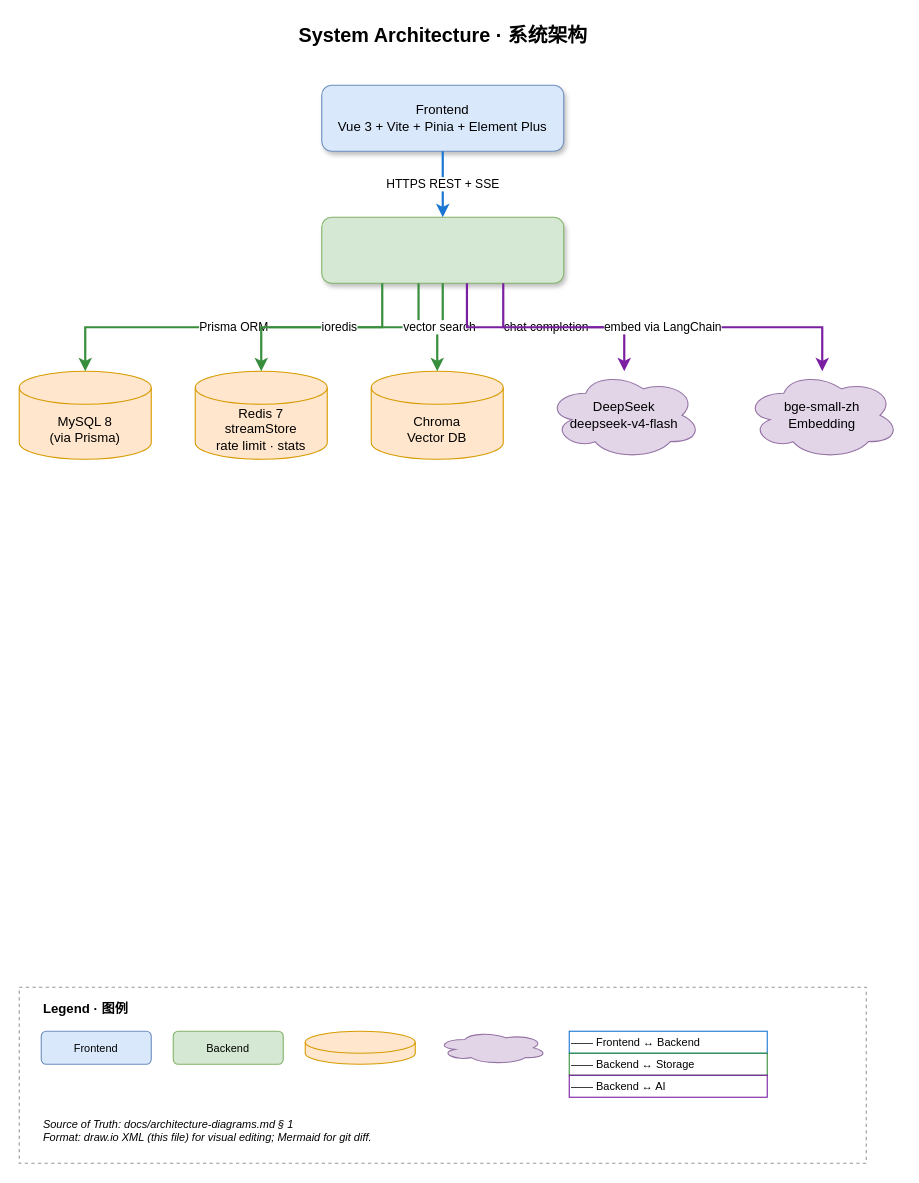
Image size: 919x1183. Some labels were removed from this diagram. The centre of each missing label's shape, as x and y in pixels:
AI Service: the point at 491,1047
Backend Express 5 + Prisma + Pino: the point at 443,251
Storage: the point at 359,1047
